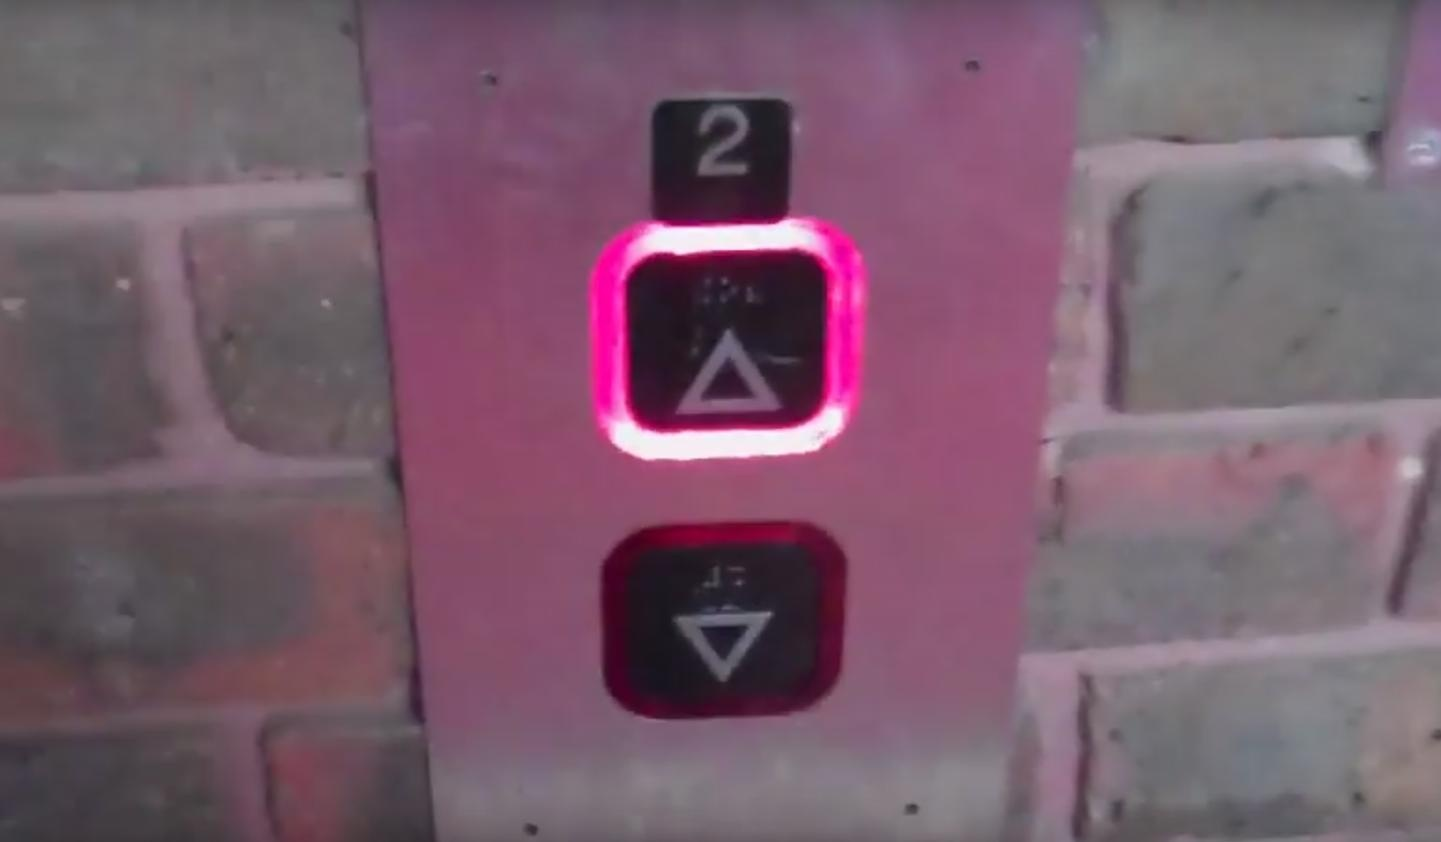2: (652, 94, 794, 229)
down: (605, 524, 852, 722)
up: (589, 217, 866, 461)
